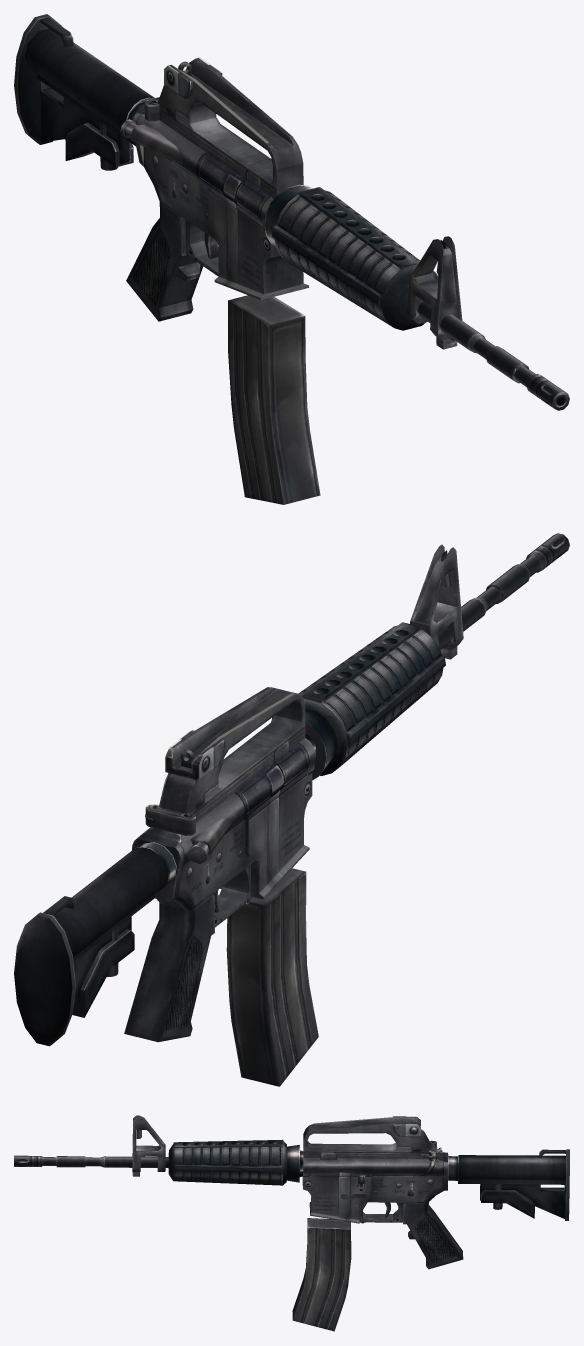
The picture shows the model from 3 angles, top to bottom: view 1: azimuth 30°, elevation 25°; view 2: azimuth 150°, elevation 25°; view 3: azimuth 270°, elevation 25°; orthographic projection. The views are drawn at different scales.
Visible parts, largest first — view 1: M4 Body, M4 Magzine; view 2: M4 Body, M4 Magzine; view 3: M4 Body, M4 Magzine.
Part boxes in pixels (box(x1,y1,x2,y2)): M4 Body: box(14, 14, 569, 410); M4 Magzine: box(228, 295, 320, 504); M4 Body: box(14, 533, 569, 1046); M4 Magzine: box(226, 868, 318, 1086); M4 Body: box(14, 1115, 569, 1269); M4 Magzine: box(292, 1218, 351, 1331).
Bounding box in the file's own units: 7.07 × 31.36 × 75.18.
